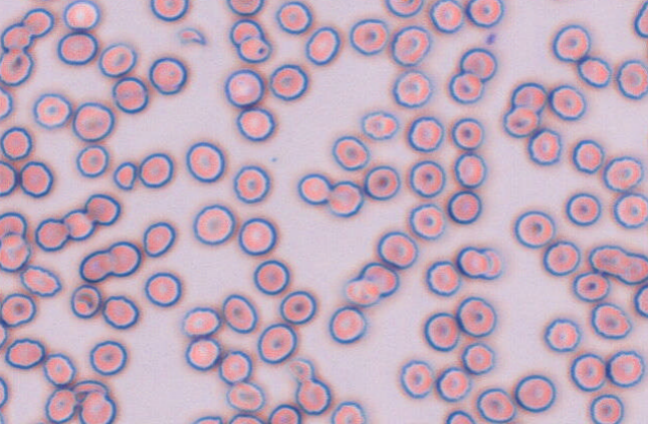RBC: (192, 203, 235, 245), (256, 322, 297, 364), (455, 295, 496, 337), (390, 24, 431, 66), (72, 101, 114, 142), (185, 140, 225, 182), (513, 209, 555, 248), (224, 68, 264, 108), (377, 230, 418, 269), (514, 374, 556, 412), (456, 245, 502, 279), (392, 69, 432, 108), (590, 302, 632, 339), (328, 305, 367, 344), (148, 56, 187, 95), (605, 349, 645, 387), (602, 155, 643, 192), (238, 217, 277, 255), (232, 164, 270, 203), (552, 23, 590, 62), (32, 92, 72, 129), (268, 63, 308, 100), (349, 18, 389, 55), (358, 261, 399, 297), (408, 159, 446, 197), (569, 352, 606, 391), (423, 311, 459, 351), (476, 387, 516, 423), (221, 293, 257, 333), (304, 25, 340, 65), (56, 31, 98, 65), (327, 179, 364, 217), (408, 202, 445, 240), (542, 239, 580, 276), (548, 83, 586, 120), (331, 134, 370, 170), (399, 358, 434, 398), (235, 106, 275, 141), (19, 264, 61, 297), (111, 76, 148, 113), (407, 115, 444, 152), (295, 377, 331, 415), (89, 339, 127, 375), (98, 42, 137, 77), (144, 271, 181, 307), (252, 259, 289, 295), (363, 164, 400, 200), (101, 294, 139, 329), (543, 317, 581, 352), (527, 127, 562, 165), (4, 337, 45, 369), (435, 366, 471, 402), (184, 336, 221, 371), (425, 259, 460, 296), (612, 191, 647, 228), (279, 289, 316, 324), (459, 47, 497, 81), (588, 244, 628, 276), (225, 380, 265, 412), (181, 305, 221, 337), (616, 58, 647, 99), (0, 292, 36, 327), (138, 152, 173, 188), (19, 160, 53, 197), (275, 0, 312, 34), (453, 151, 487, 188), (78, 390, 116, 423), (0, 48, 33, 86), (0, 232, 31, 272), (446, 189, 481, 224), (218, 349, 252, 385), (565, 192, 601, 226), (78, 249, 113, 283), (34, 217, 69, 251), (42, 352, 76, 387), (460, 341, 495, 375), (108, 240, 141, 276), (44, 387, 77, 423), (142, 221, 175, 257), (572, 138, 605, 174), (502, 105, 539, 137), (510, 81, 547, 113), (62, 0, 100, 31), (360, 109, 398, 140), (297, 172, 332, 205), (429, 0, 464, 33), (577, 55, 612, 88), (84, 193, 120, 225), (572, 271, 609, 302), (75, 144, 109, 177), (448, 71, 483, 103), (0, 125, 32, 160), (343, 277, 380, 307), (451, 117, 484, 150), (62, 208, 95, 240), (616, 251, 647, 285), (70, 284, 101, 318), (465, 0, 504, 27), (589, 393, 624, 423), (21, 7, 54, 38), (236, 35, 271, 63), (229, 18, 264, 46), (0, 22, 32, 52), (329, 400, 366, 423), (149, 0, 189, 21), (72, 379, 108, 402), (0, 211, 27, 239), (267, 403, 301, 423), (384, 0, 423, 17), (0, 160, 17, 196), (226, 0, 264, 16), (633, 0, 647, 38), (633, 283, 647, 317), (0, 86, 13, 120), (444, 409, 475, 423), (227, 412, 264, 423), (0, 376, 8, 407), (191, 415, 222, 423), (0, 322, 7, 349), (0, 410, 5, 423)
Schistocyte: (114, 161, 136, 190), (174, 27, 207, 46), (289, 360, 315, 382)
